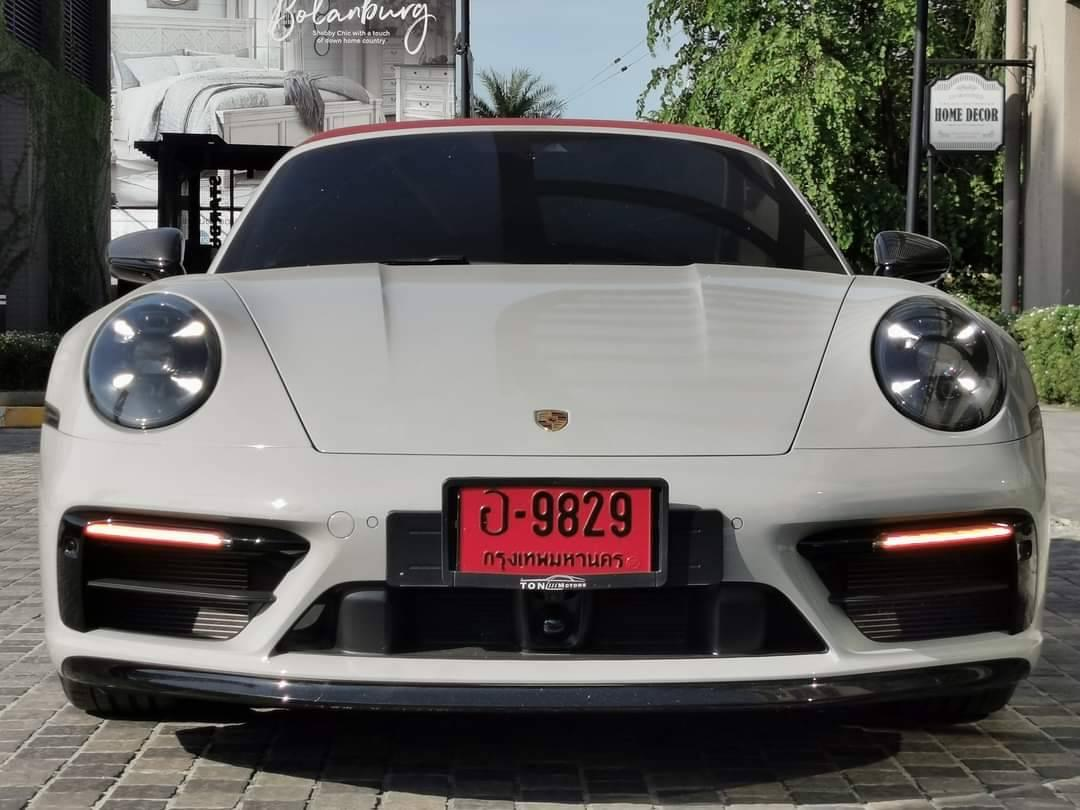license-plate: (430, 469, 681, 594)
